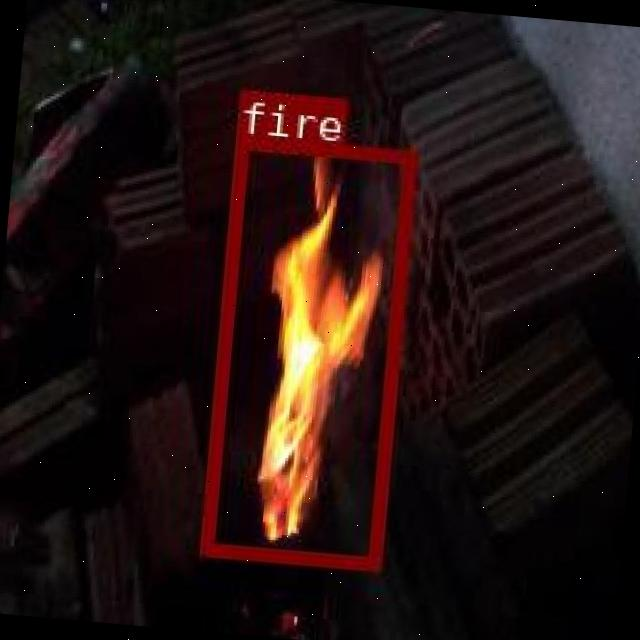fire: (198, 133, 414, 568)
